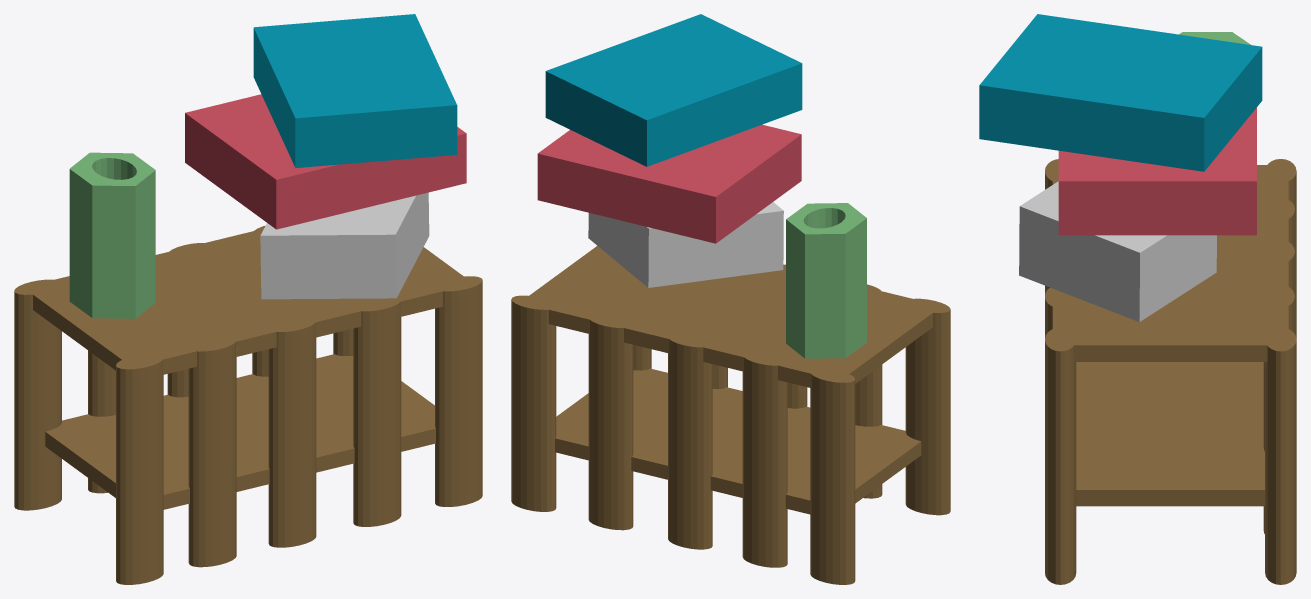
3 renders of one model, left to right at view 1: azimuth 30°, elevation 25°; view 2: azimuth 150°, elevation 25°; view 3: azimuth 270°, elevation 25°, orthographic. The views are drawn at different scales.
Visible parts, largest first — view 1: Mesh_Mesh_head_geo.001_lambert2SG.001; view 2: Mesh_Mesh_head_geo.001_lambert2SG.001; view 3: Mesh_Mesh_head_geo.001_lambert2SG.001.
Boxes of the visible parts, bbox=[...] form: Mesh_Mesh_head_geo.001_lambert2SG.001: bbox=[14, 14, 482, 584]; Mesh_Mesh_head_geo.001_lambert2SG.001: bbox=[511, 14, 950, 584]; Mesh_Mesh_head_geo.001_lambert2SG.001: bbox=[979, 14, 1296, 584].
Bounding box in the file's own units: 23 × 26 × 16.
